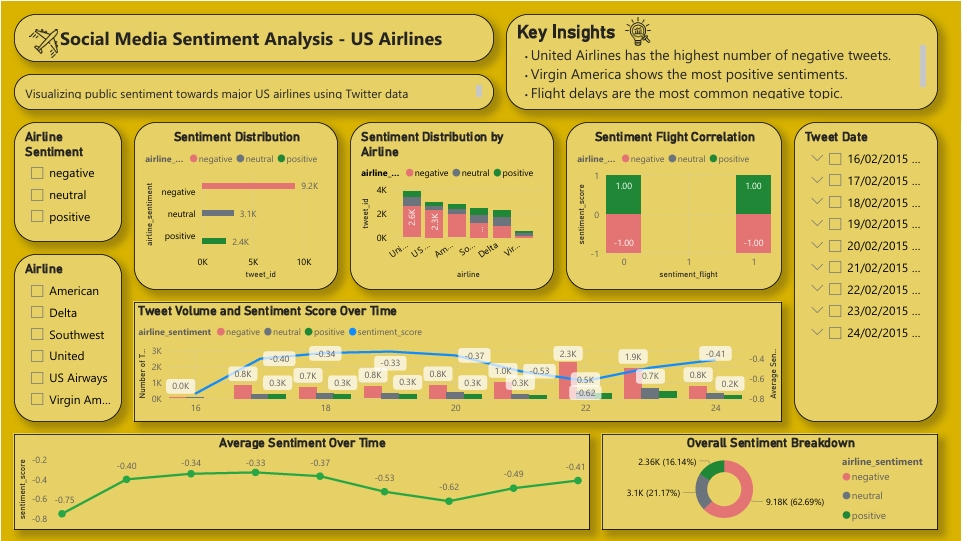

Layout of this report page (visuals, bound fields, positions):
{"tool":"powerbi","page":{"name":"Page 1","canvas":[1280,720],"ordinal":0},"visuals":[{"type":"clusteredBarChart","title":"Sentiment Distribution","fields":{"Category":["processed_twitter_sentiment.airline_sentiment"],"Y":["CountNonNull(processed_twitter_sentiment.tweet_id)"],"Series":["processed_twitter_sentiment.airline_sentiment"]},"box":[176,160,272,224],"z":0},{"type":"columnChart","title":"Sentiment Distribution by Airline","fields":{"Category":["processed_twitter_sentiment.airline"],"Series":["processed_twitter_sentiment.airline_sentiment"],"Y":["CountNonNull(processed_twitter_sentiment.tweet_id)"]},"box":[464,160,272,224],"z":1000},{"type":"lineChart","title":"Average Sentiment Over Time","fields":{"Category":["processed_twitter_sentiment.tweet_datetime.Variation.Date Hierarchy.Day"],"Y":["Avg(processed_twitter_sentiment.sentiment_score)"]},"box":[16,576,768,128],"z":2000},{"type":"slicer","title":"Airline","fields":{"Values":["processed_twitter_sentiment.airline"]},"box":[16,336,144,224],"z":3000},{"type":"columnChart","title":"Sentiment Flight Correlation","fields":{"Category":["processed_twitter_sentiment.sentiment_flight"],"Series":["processed_twitter_sentiment.airline_sentiment"],"Y":["Avg(processed_twitter_sentiment.sentiment_score)"]},"box":[752,160,288,224],"z":4000},{"type":"donutChart","title":"Overall Sentiment Breakdown","fields":{"Y":["CountNonNull(processed_twitter_sentiment.tweet_id)"],"Category":["processed_twitter_sentiment.airline_sentiment"]},"box":[800,576,448,128],"z":5000},{"type":"lineClusteredColumnComboChart","title":"Tweet Volume and Sentiment Score Over Time","fields":{"Category":["processed_twitter_sentiment.tweet_datetime.Variation.Date Hierarchy.Day"],"Series":["processed_twitter_sentiment.airline_sentiment"],"Y":["CountNonNull(processed_twitter_sentiment.tweet_id)"],"Y2":["Avg(processed_twitter_sentiment.sentiment_score)"]},"box":[176,400,864,160],"z":6000},{"type":"slicer","title":"Tweet Date","fields":{"Values":["processed_twitter_sentiment.tweet_datetime","processed_twitter_sentiment.tweet_datetime.Variation.Date Hierarchy.Day"]},"box":[1056,160,192,400],"z":7000},{"type":"slicer","title":"Airline Sentiment","fields":{"Values":["processed_twitter_sentiment.airline_sentiment"]},"box":[16,160,144,160],"z":8000},{"type":"textbox","box":[16,16,640,64],"z":9000},{"type":"textbox","title":"Key Insights","box":[672,0,576,144],"z":10000},{"type":"image","box":[16,16,48,48],"z":11000},{"type":"image","box":[816,0,96,48],"z":12000},{"type":"textbox","box":[48,80,592,64],"z":13000}]}

Visuals, with their boxes in screenshot pixels (x1, y1, x2, y2), scaled from the page's 1280x720 canvas onto the 963x541 screenshot:
"Sentiment Distribution" clusteredBarChart: region(132, 120, 337, 289)
"Sentiment Distribution by Airline" columnChart: region(349, 120, 554, 289)
"Average Sentiment Over Time" lineChart: region(12, 433, 590, 529)
"Airline" slicer: region(12, 252, 120, 421)
"Sentiment Flight Correlation" columnChart: region(566, 120, 782, 289)
"Overall Sentiment Breakdown" donutChart: region(602, 433, 939, 529)
"Tweet Volume and Sentiment Score Over Time" lineClusteredColumnComboChart: region(132, 301, 782, 421)
"Tweet Date" slicer: region(794, 120, 939, 421)
"Airline Sentiment" slicer: region(12, 120, 120, 240)
textbox: region(12, 12, 494, 60)
"Key Insights" textbox: region(506, 0, 939, 108)
image: region(12, 12, 48, 48)
image: region(614, 0, 686, 36)
textbox: region(36, 60, 482, 108)
